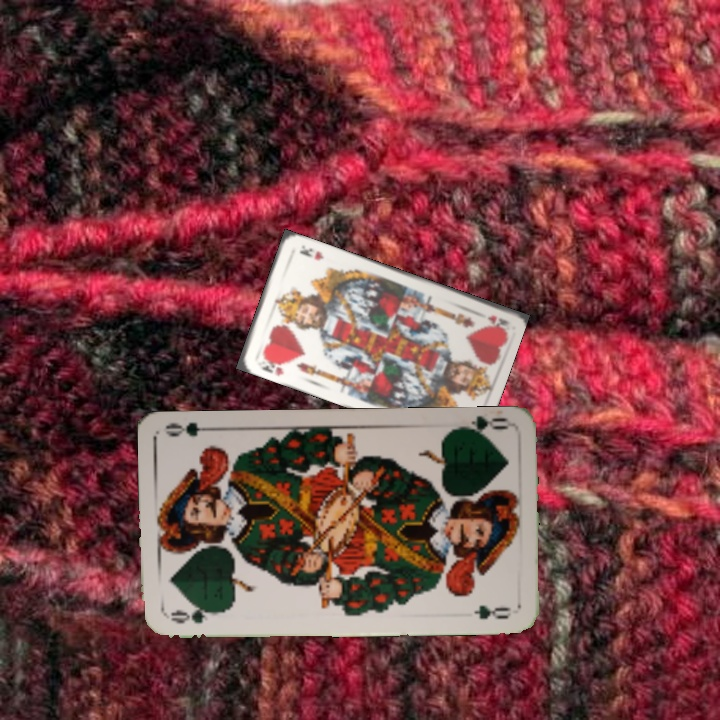GO: (452, 413, 511, 440), (167, 604, 224, 626)
HK: (257, 353, 289, 378), (483, 311, 510, 330)
